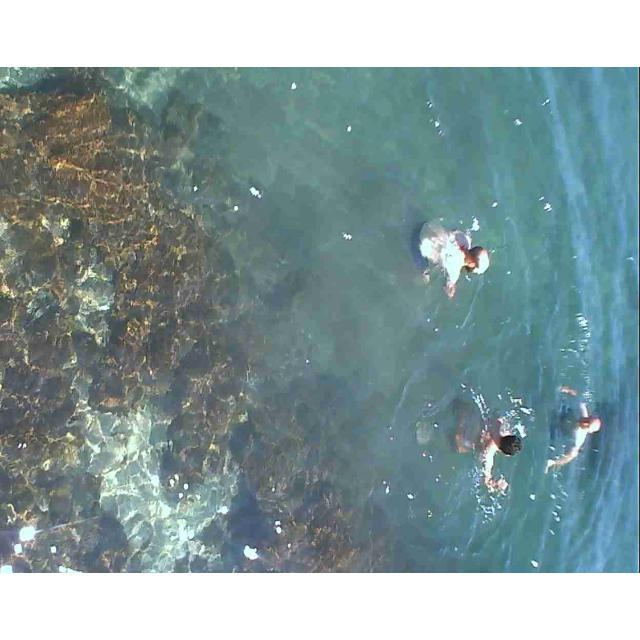human: (408, 215, 490, 302), (459, 393, 522, 501), (549, 381, 599, 479)
